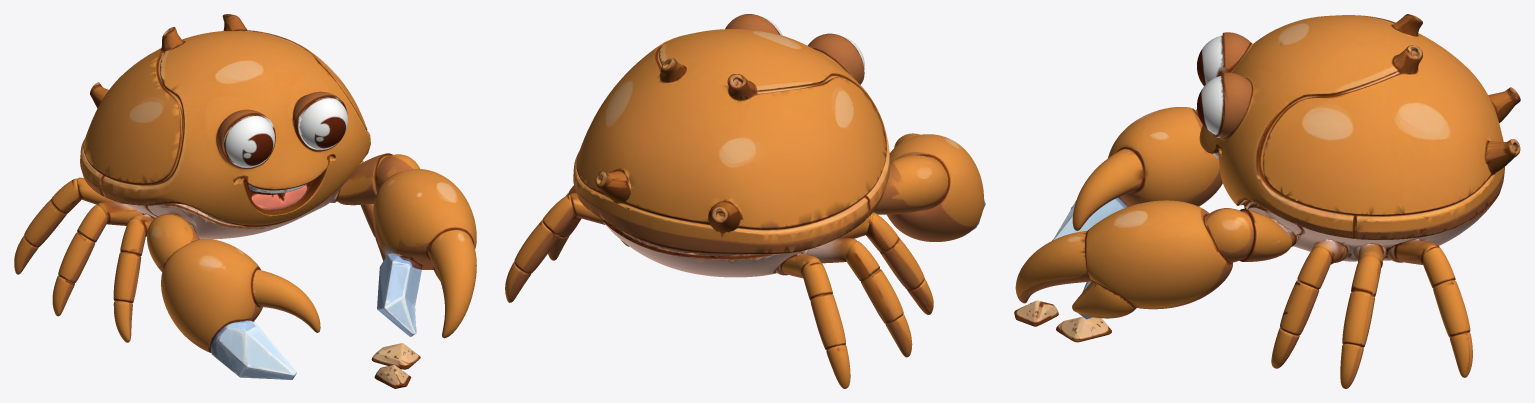
Rendered from rust-ferris.glb.
3 views of the same model, side by side, from view 1: azimuth 30°, elevation 25°; view 2: azimuth 150°, elevation 25°; view 3: azimuth 270°, elevation 25° (orthographic). The views are drawn at different scales.
Visible parts, largest first — view 1: node_0; view 2: node_0; view 3: node_0.
Boxes of the visible parts, x1,y1,x2,y2 form: node_0: [14, 14, 476, 388]; node_0: [505, 14, 985, 388]; node_0: [1014, 14, 1520, 388].
Bounding box in the file's own units: 0.8168 × 0.5633 × 0.9433.
1 material, 1 textured.
